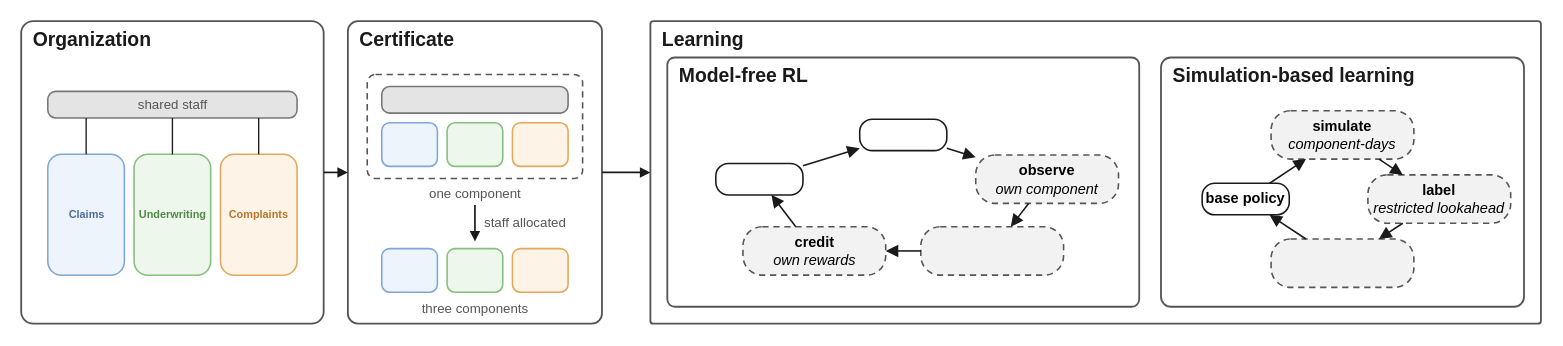
Some shapes in this 1563 by 346 pixel diagram are drawn without their labels. The centre of each missing label's shape, as x and y in pixels:
"decide wait per component" belongs at (991,250).
"simulate" belongs at (902,134).
"train local loss" belongs at (1342,263).
"update" belongs at (759,178).
